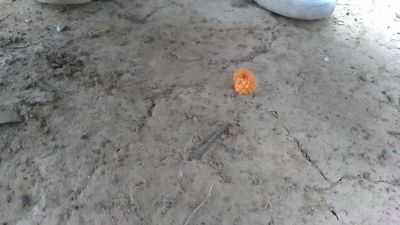eggs: (231, 64, 260, 97)
